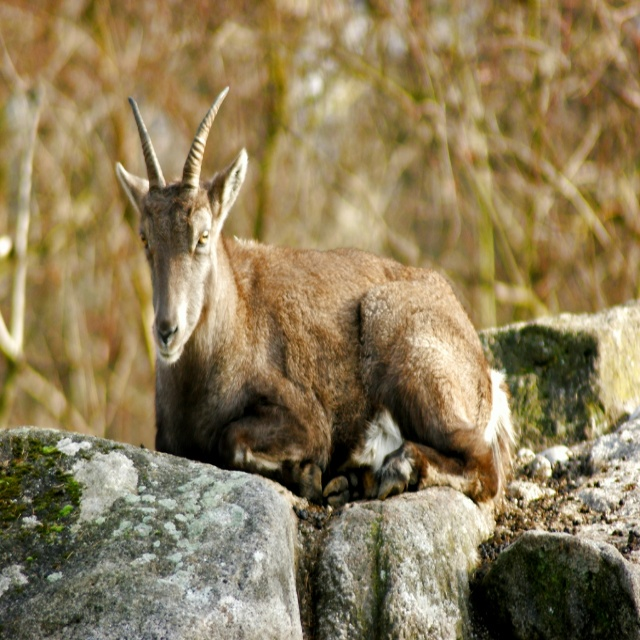Goat: (113, 85, 517, 505)
